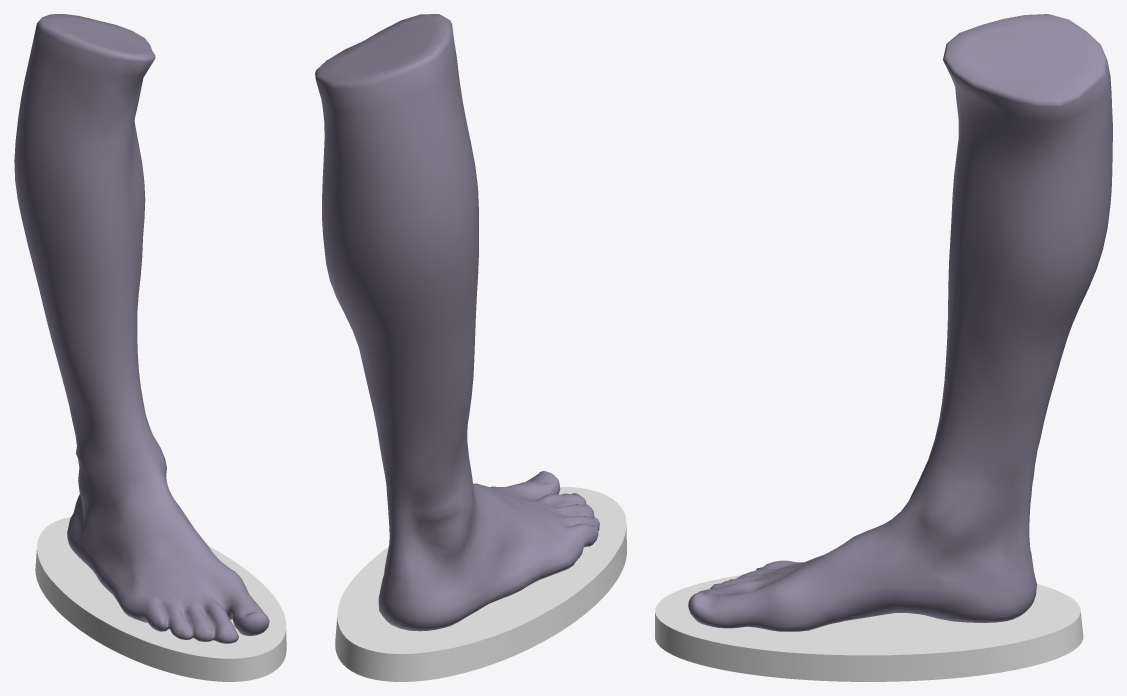
Rendered from 脚_20260324185339_opt.glb.
The picture shows the model from 3 angles, left to right: view 1: azimuth 30°, elevation 25°; view 2: azimuth 150°, elevation 25°; view 3: azimuth 270°, elevation 25°; orthographic projection. The views are drawn at different scales.
Parts seen in each view (by area): view 1: Plane025, Kajas3_Support; view 2: Plane025, Kajas3_Support; view 3: Plane025, Kajas3_Support.
Part boxes in pixels (x1,y1,x2,y2): Plane025: (14, 14, 269, 643); Kajas3_Support: (35, 517, 286, 681); Plane025: (315, 14, 599, 631); Kajas3_Support: (335, 486, 626, 681); Plane025: (688, 14, 1112, 631); Kajas3_Support: (655, 575, 1083, 681).
Bounding box in the file's own units: 0.1681 × 0.5257 × 0.3617.
